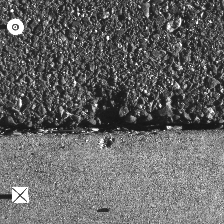circle: (6, 19, 24, 34)
crack: (1, 118, 223, 136)
square: (11, 187, 28, 202)
